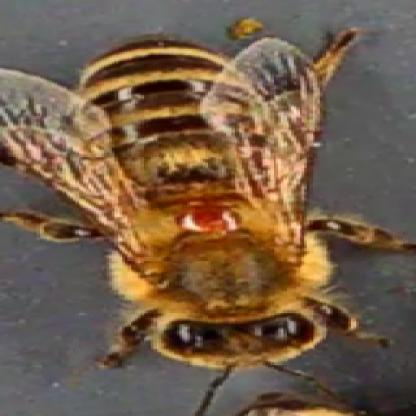bee: (74, 34, 344, 371)
vaoora: (182, 205, 235, 231)
